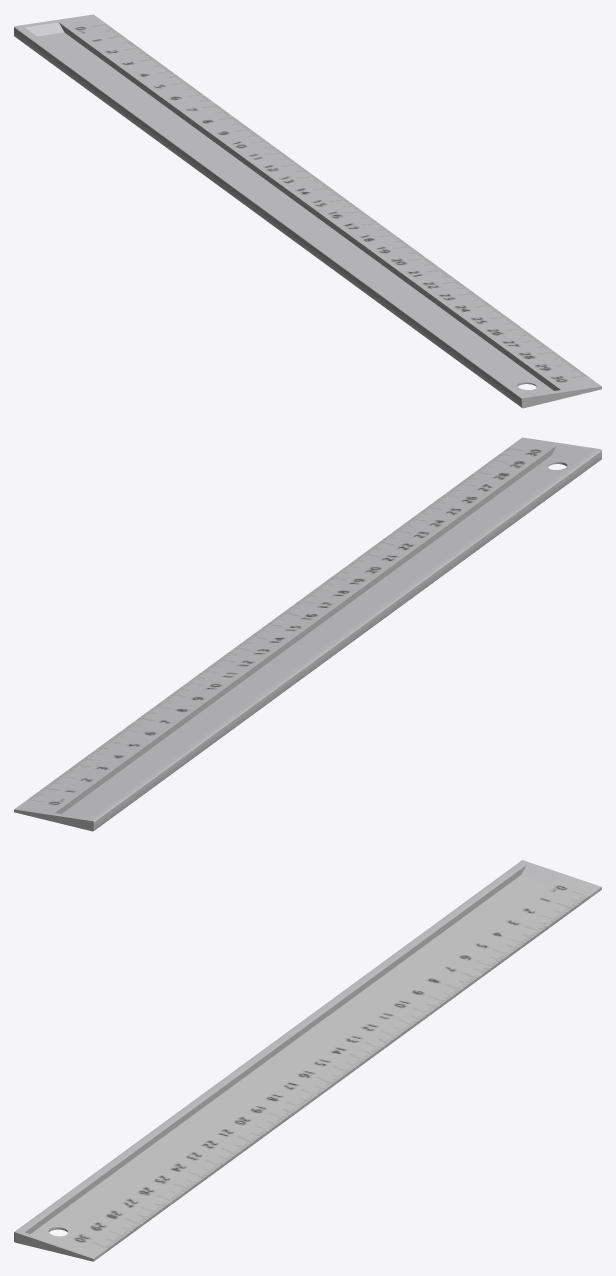
The model's file is ruler.gltf.
The picture shows the model from 3 angles, top to bottom: view 1: azimuth 30°, elevation 25°; view 2: azimuth 150°, elevation 25°; view 3: azimuth 330°, elevation 25°; orthographic projection.
Parts seen in each view (by area): view 1: Object_2; view 2: Object_2; view 3: Object_2.
Part boxes in pixels (x1,y1,x2,y2): Object_2: [14, 14, 601, 408]; Object_2: [14, 437, 601, 831]; Object_2: [14, 860, 601, 1261].
Size of the model in its own units: 3.19 by 0.3899 by 35.
Materials: 1 (1 with a texture image).
